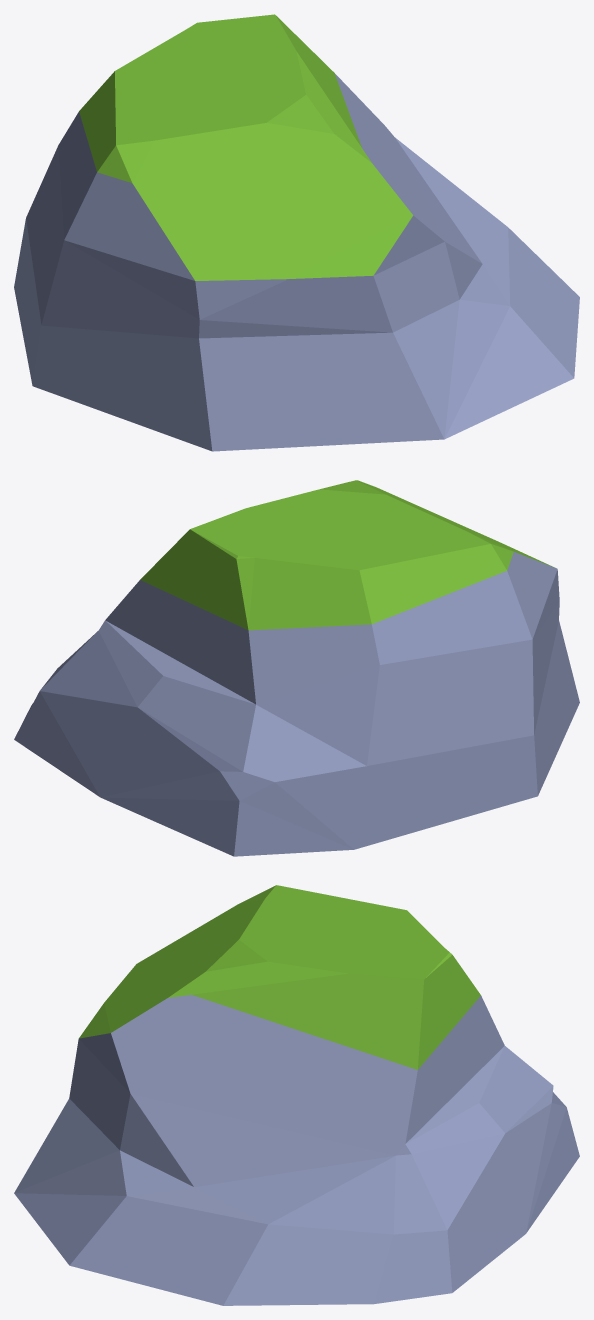
File: Rock_25.fbx
3 views of the same model, one above another, from view 1: azimuth 30°, elevation 25°; view 2: azimuth 150°, elevation 25°; view 3: azimuth 270°, elevation 25° (orthographic). The views are drawn at different scales.
Parts seen in each view (by area): view 1: Rock_25; view 2: Rock_25; view 3: Rock_25.
Part boxes in pixels (left/top/right/bottom): Rock_25: left=14, top=14, right=579, bottom=451; Rock_25: left=14, top=480, right=579, bottom=856; Rock_25: left=14, top=885, right=579, bottom=1305.
Bounding box in the file's own units: 6.31 × 3.03 × 6.58.
